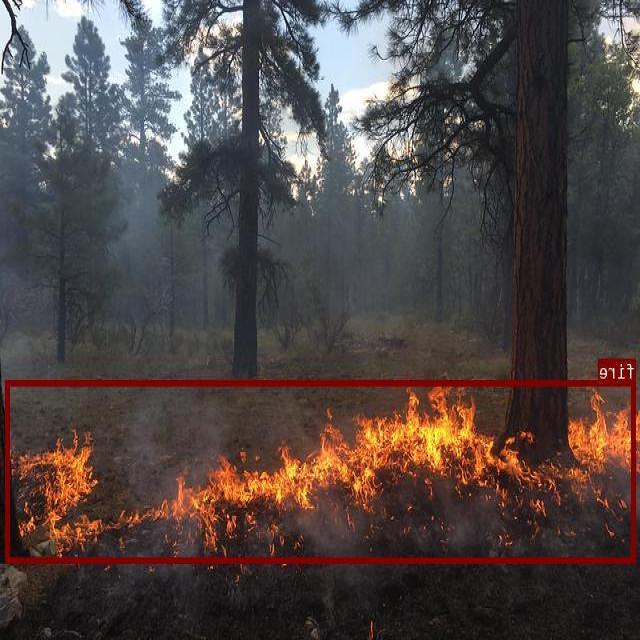fire: (6, 380, 637, 562)
